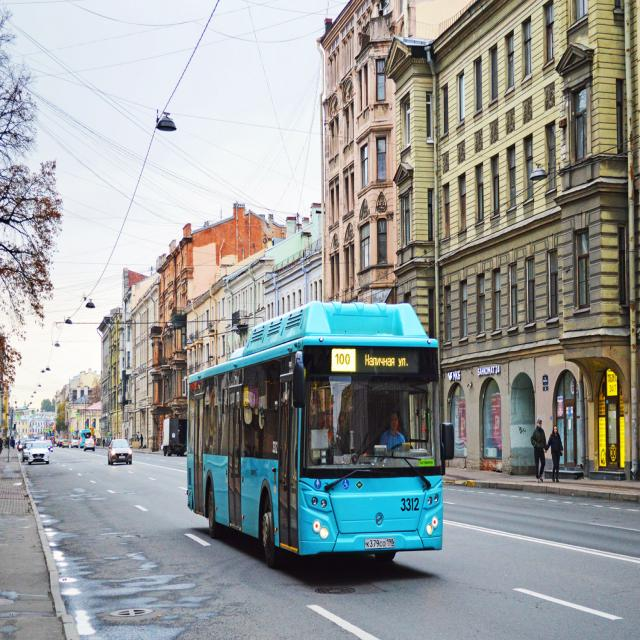number-of-bus: (334, 351, 354, 371)
